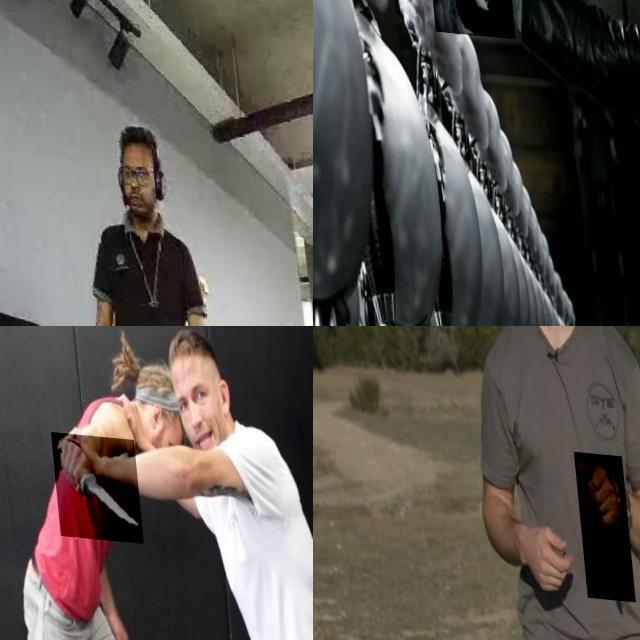-: (48, 428, 138, 538), (567, 446, 626, 595)
gun-knife-thesis - v11 Yolov5 augmented: (419, 0, 509, 72)
